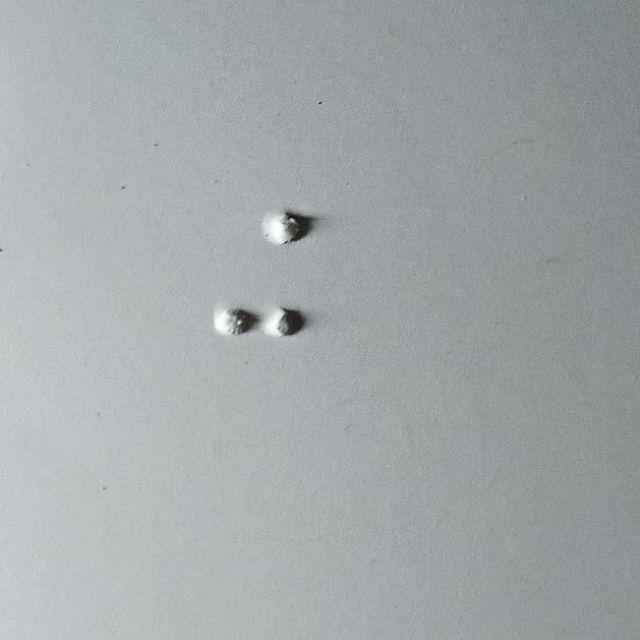ingay: (215, 212, 308, 335)
